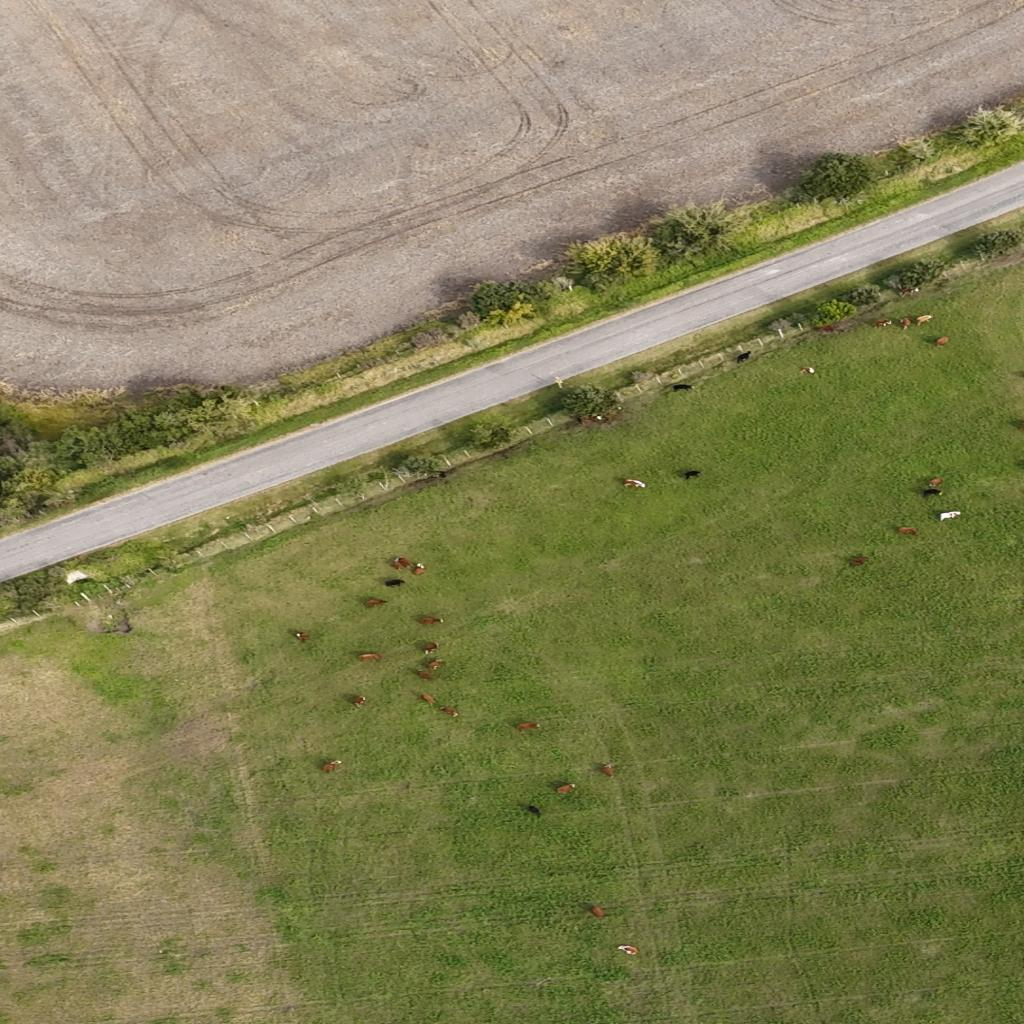cow: (322, 760, 342, 773), (618, 945, 640, 956), (364, 598, 388, 608), (938, 510, 961, 520), (426, 659, 444, 671), (440, 706, 458, 718), (516, 722, 539, 731), (897, 287, 920, 296), (623, 479, 646, 488), (898, 526, 918, 536), (848, 556, 868, 566), (922, 488, 942, 498), (396, 556, 414, 567), (671, 383, 693, 392), (413, 563, 428, 576), (420, 694, 436, 706), (359, 652, 383, 660), (590, 906, 606, 918), (735, 352, 751, 364), (556, 784, 575, 794), (679, 470, 700, 479), (416, 670, 434, 680), (874, 319, 894, 328), (526, 805, 541, 817), (422, 642, 438, 653), (420, 617, 442, 625), (915, 315, 932, 325), (352, 696, 366, 708), (928, 478, 944, 488), (384, 579, 404, 587), (601, 764, 614, 776), (900, 317, 912, 330), (294, 632, 309, 642), (577, 415, 595, 423), (798, 366, 816, 374), (935, 337, 949, 347), (814, 325, 834, 332), (393, 560, 403, 572), (604, 412, 617, 420)
